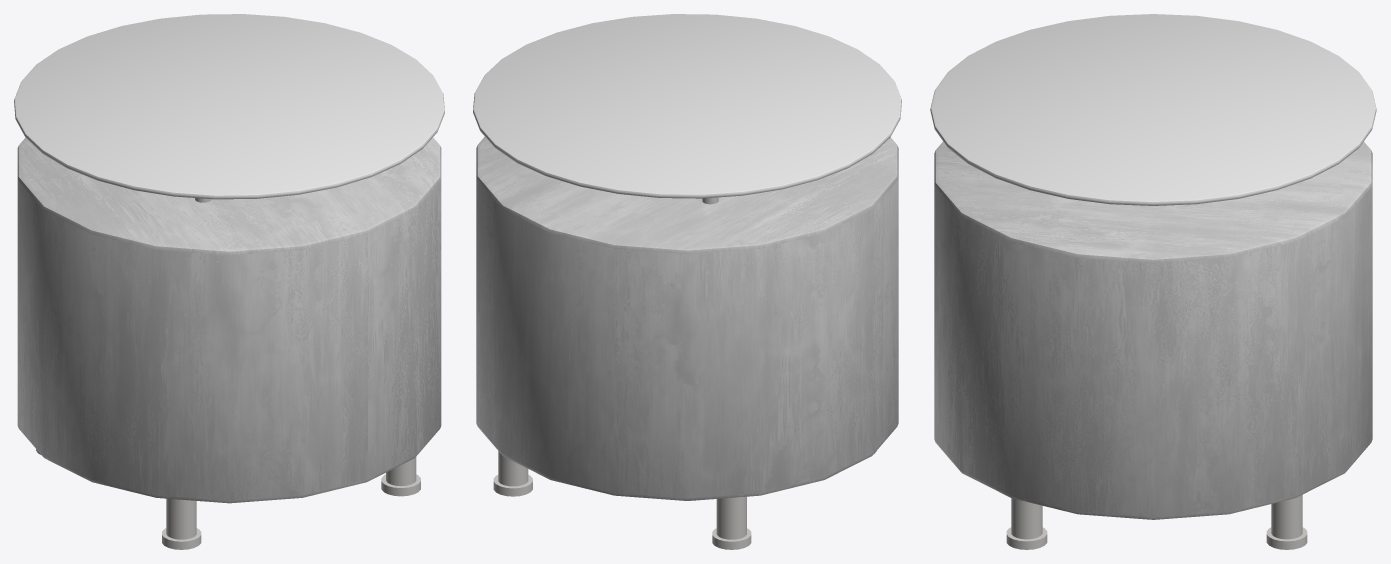
Rendered from TableSmall01.FBX.
The picture shows the model from 3 angles, left to right: view 1: azimuth 30°, elevation 25°; view 2: azimuth 150°, elevation 25°; view 3: azimuth 270°, elevation 25°; orthographic projection. The views are drawn at different scales.
Visible parts, largest first — view 1: TableSmall01; view 2: TableSmall01; view 3: TableSmall01.
Boxes of the visible parts, x1=… form: TableSmall01: x1=14, y1=14, x2=444, y2=549; TableSmall01: x1=473, y1=14, x2=901, y2=549; TableSmall01: x1=930, y1=14, x2=1376, y2=549.
Bounding box in the file's own units: 80.25 × 75 × 80.25.
